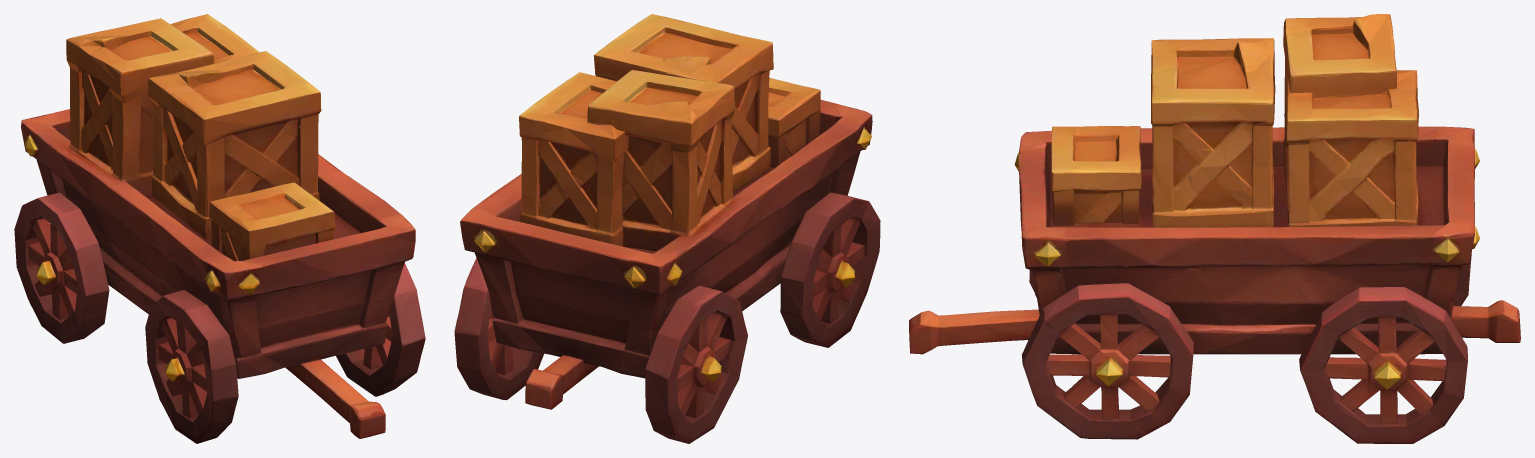
The model's file is KeepSakeWoodenVehicle.glb.
The picture shows the model from 3 angles, left to right: view 1: azimuth 30°, elevation 25°; view 2: azimuth 150°, elevation 25°; view 3: azimuth 270°, elevation 25°; orthographic projection. The views are drawn at different scales.
Visible parts, largest first — view 1: tripo_node_d4d86f7b-99c8-4b3b-8611-1391df7895af; view 2: tripo_node_d4d86f7b-99c8-4b3b-8611-1391df7895af; view 3: tripo_node_d4d86f7b-99c8-4b3b-8611-1391df7895af.
Part boxes in pixels (x1,y1,x2,y2): tripo_node_d4d86f7b-99c8-4b3b-8611-1391df7895af: [14, 14, 425, 443]; tripo_node_d4d86f7b-99c8-4b3b-8611-1391df7895af: [454, 14, 880, 443]; tripo_node_d4d86f7b-99c8-4b3b-8611-1391df7895af: [909, 14, 1520, 443].
Size of the model in its own units: 0.4797 by 0.5943 by 0.9793.
1 material, 1 textured.
